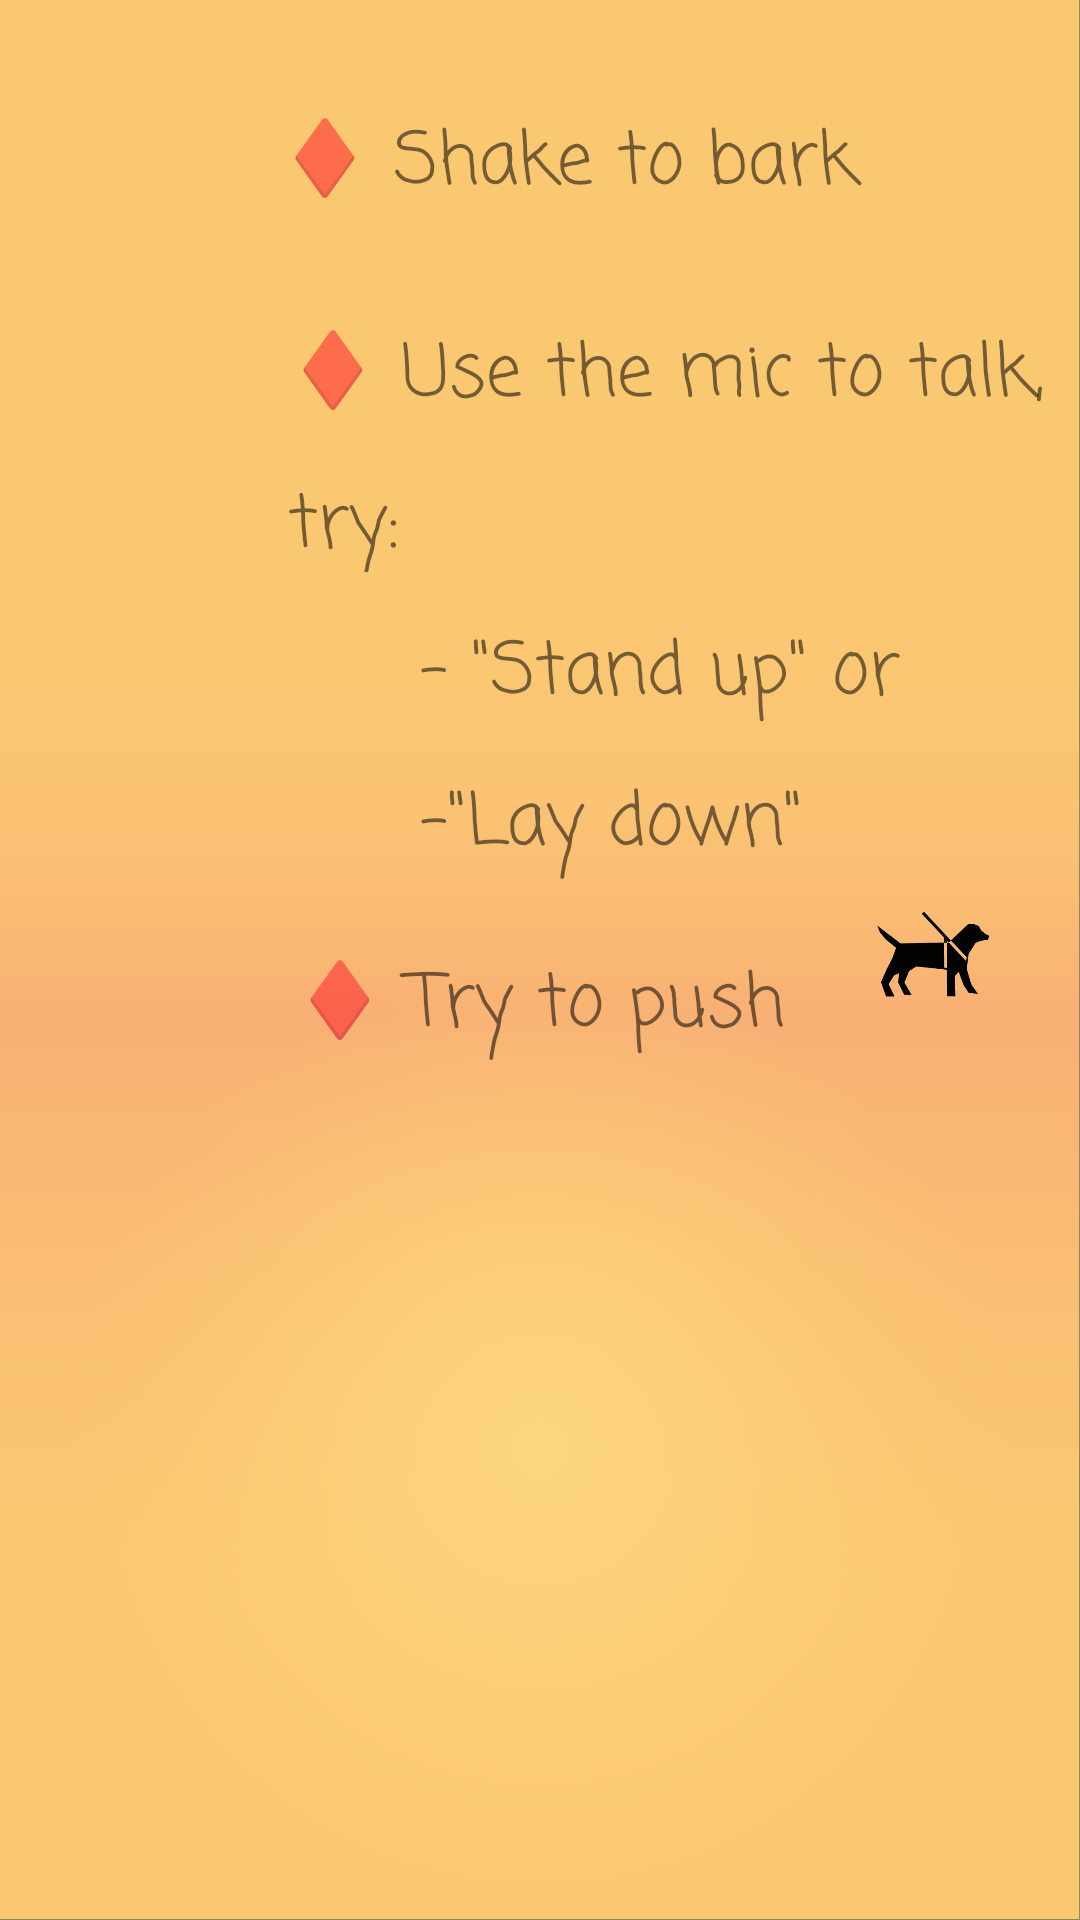

Point at icon controls on the screen. Image size 1080×1920, points as point (x, y).
walk dog: point (933, 954)
